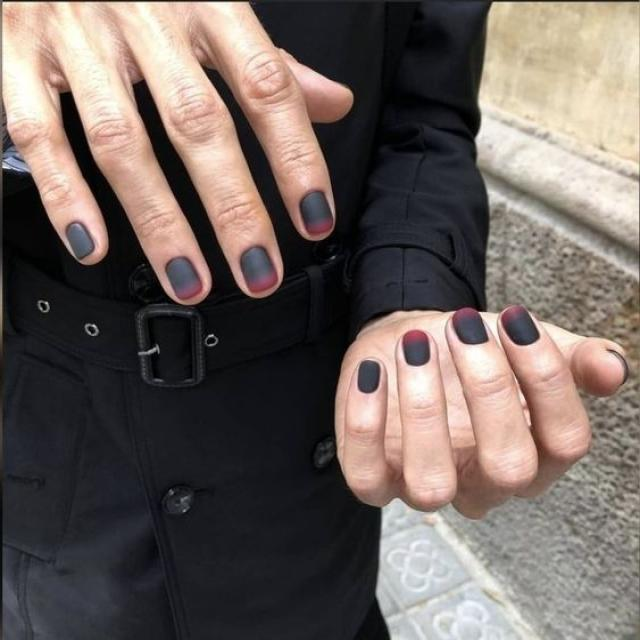Fingernail: (241, 247, 276, 294), (165, 258, 203, 300), (300, 190, 333, 236), (502, 308, 538, 345), (453, 308, 488, 344), (67, 224, 97, 260), (402, 331, 431, 365), (357, 360, 381, 393)
